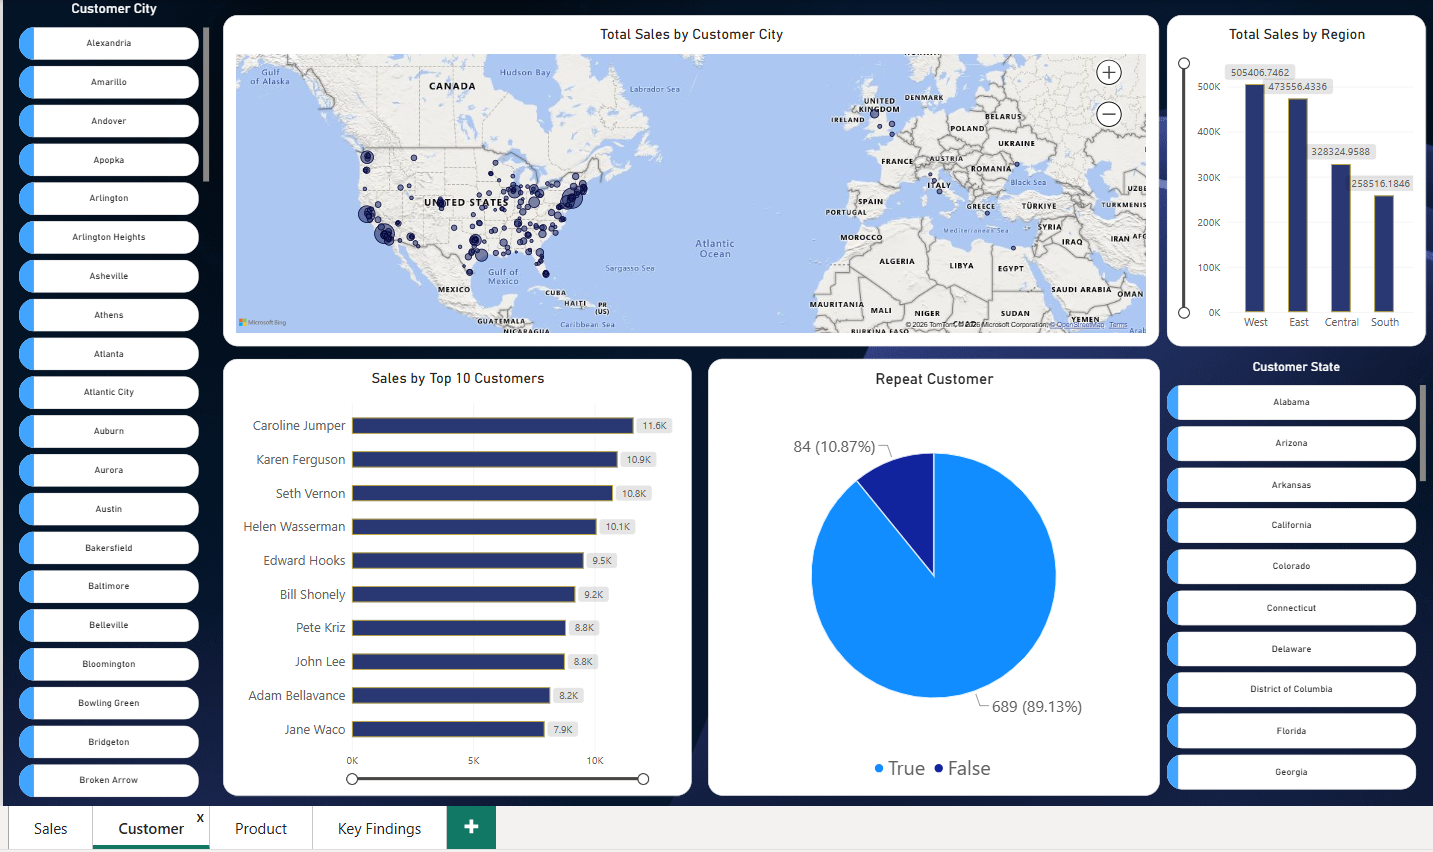

The page's visual inventory and layout, read from the dashboard file:
{"tool":"powerbi","page":{"name":"Customer","canvas":[1920,1080],"ordinal":1},"visuals":[{"type":"clusteredBarChart","title":"Sales by Top 10 Customers ","fields":{"Y":["Sum(FACT_Orders.Sales)"],"Category":["DIM_Customer.Customer Name"]},"box":[294.7,480.7,628.1,586],"z":0},{"type":"advancedSlicerVisual","title":"Customer City","fields":{"Values":["DIM_Customer.City"]},"box":[21.1,0,254.4,1080.7],"z":1},{"type":"pieChart","title":"Repeat Customer","fields":{"Category":["DIM_Customer.Is Repeat Customer"],"Y":["CountNonNull(DIM_Customer.Customer Name)"]},"box":[943.9,480.7,605.3,586],"z":2},{"type":"map","title":"Total Sales by Customer City","fields":{"Category":["DIM_Customer.City"],"Size":["Sum(FACT_Orders.Sales)"]},"box":[294.7,19.3,1254.4,443.9],"z":3},{"type":"clusteredColumnChart","title":"Total Sales by Region","fields":{"Category":["DIM_Customer.Region"],"Y":["Sum(FACT_Orders.Sales)"]},"box":[1559.6,19.3,347.4,443.9],"z":4},{"type":"advancedSlicerVisual","title":"Customer State","fields":{"Values":["DIM_Customer.State"]},"box":[1559.6,480.7,347.4,586],"z":5}]}

Visuals, with their boxes on the page's 1920x1080 design canvas (x1, y1, x2, y2). These are canvas units, not pixel positions in the 1433x852 screenshot, which may show the page scaled, cropped or inside an application window:
"Sales by Top 10 Customers " clusteredBarChart: region(295, 481, 923, 1067)
"Customer City" advancedSlicerVisual: region(21, 0, 276, 1081)
"Repeat Customer" pieChart: region(944, 481, 1549, 1067)
"Total Sales by Customer City" map: region(295, 19, 1549, 463)
"Total Sales by Region" clusteredColumnChart: region(1560, 19, 1907, 463)
"Customer State" advancedSlicerVisual: region(1560, 481, 1907, 1067)
